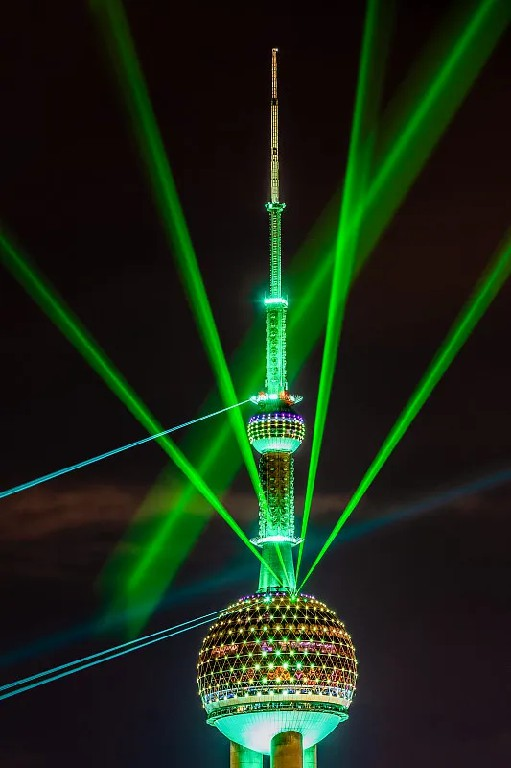Oriental: (196, 50, 358, 768)
